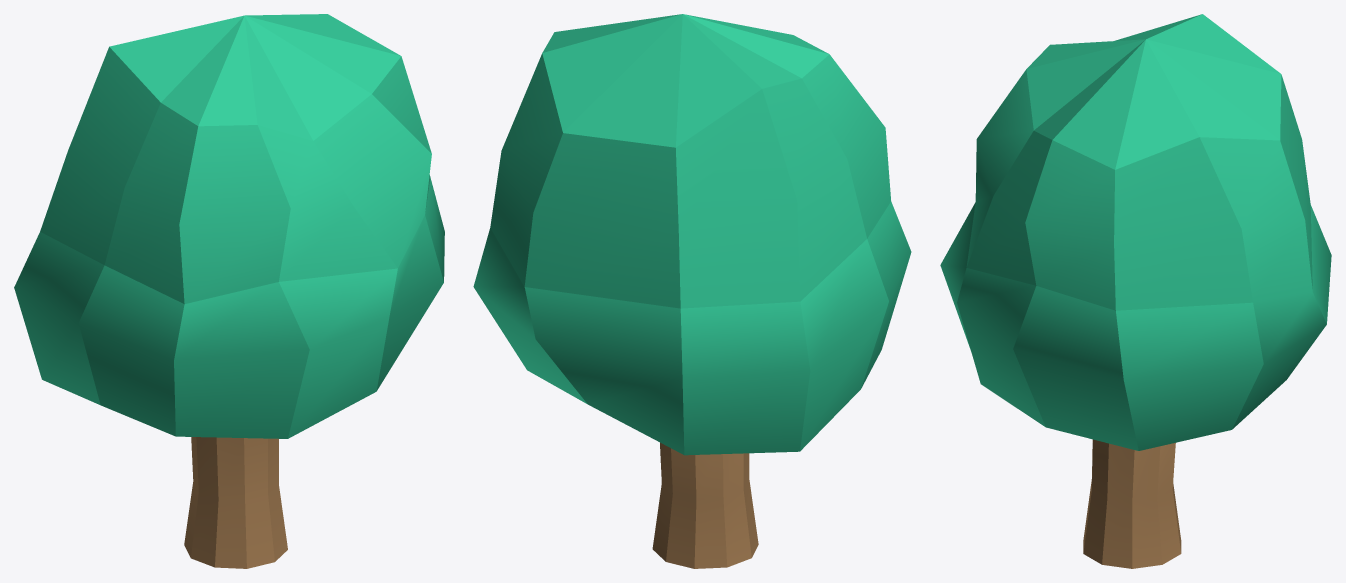
The model's file is tree03.fbx.
The picture shows the model from 3 angles, left to right: view 1: azimuth 30°, elevation 25°; view 2: azimuth 150°, elevation 25°; view 3: azimuth 270°, elevation 25°; orthographic projection. The views are drawn at different scales.
Visible parts, largest first — view 1: group2, pCylinder2; view 2: group2, pCylinder2; view 3: group2, pCylinder2.
Part boxes in pixels (bbox=[...]): group2: bbox=[14, 14, 444, 438]; pCylinder2: bbox=[184, 437, 287, 568]; group2: bbox=[473, 14, 911, 455]; pCylinder2: bbox=[652, 442, 758, 568]; group2: bbox=[940, 14, 1331, 450]; pCylinder2: bbox=[1083, 439, 1181, 568].
Bounding box in the file's own units: 217 × 290 × 200.
